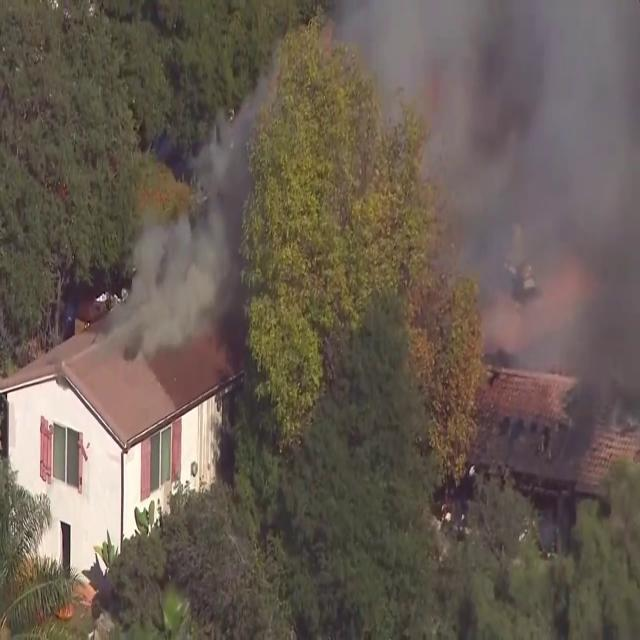Smoke: (337, 0, 640, 477), (114, 106, 266, 367)
